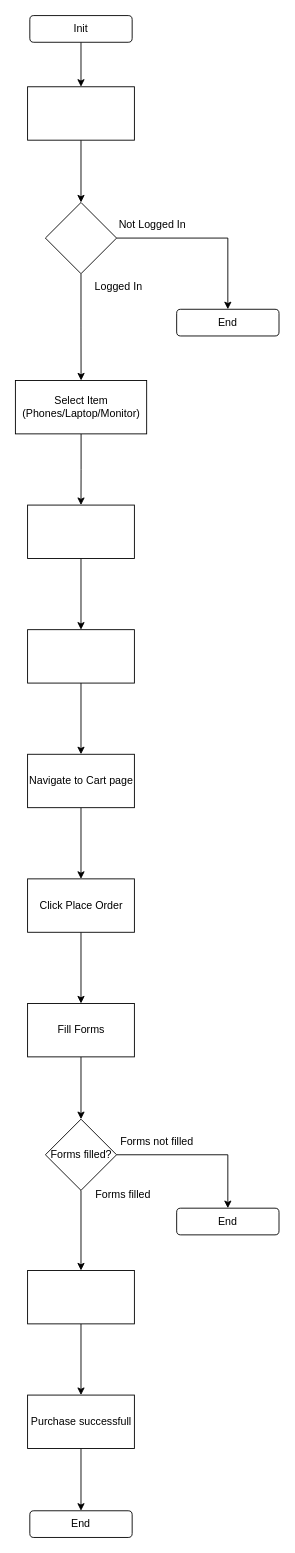
The diagram is 295 pixels wide and 1553 high, and some of its shapes have lost their labels. Each missing label, with the box of its shape:
Add to Cart: (27, 629, 134, 683)
Logged In?: (44, 202, 117, 274)
Login to Demoblazer: (27, 86, 134, 140)
Navigate to Product page: (27, 504, 134, 558)
Submit Forms: (27, 1270, 134, 1324)
